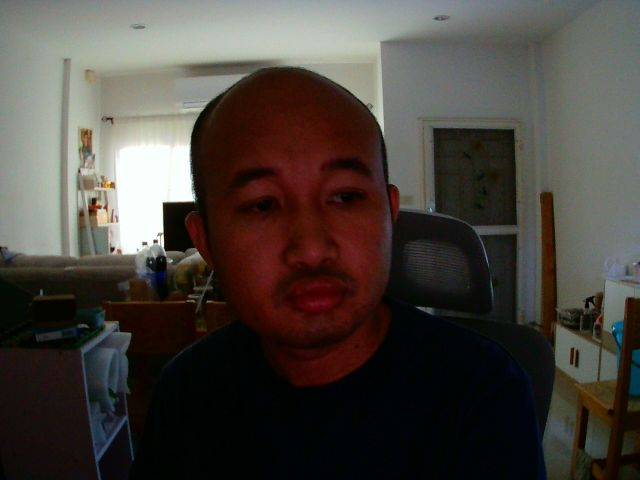face: (187, 57, 396, 352)
